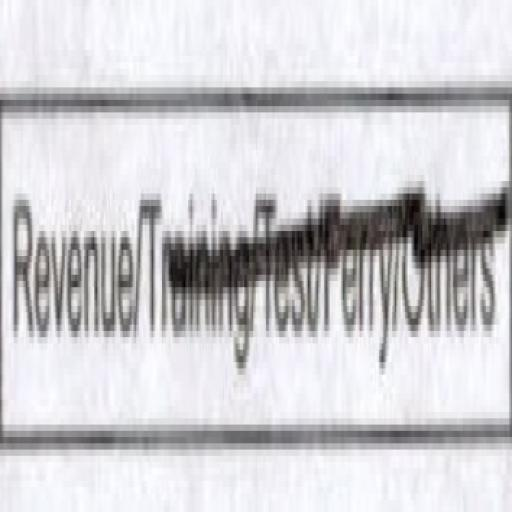check: (0, 28, 140, 482)
